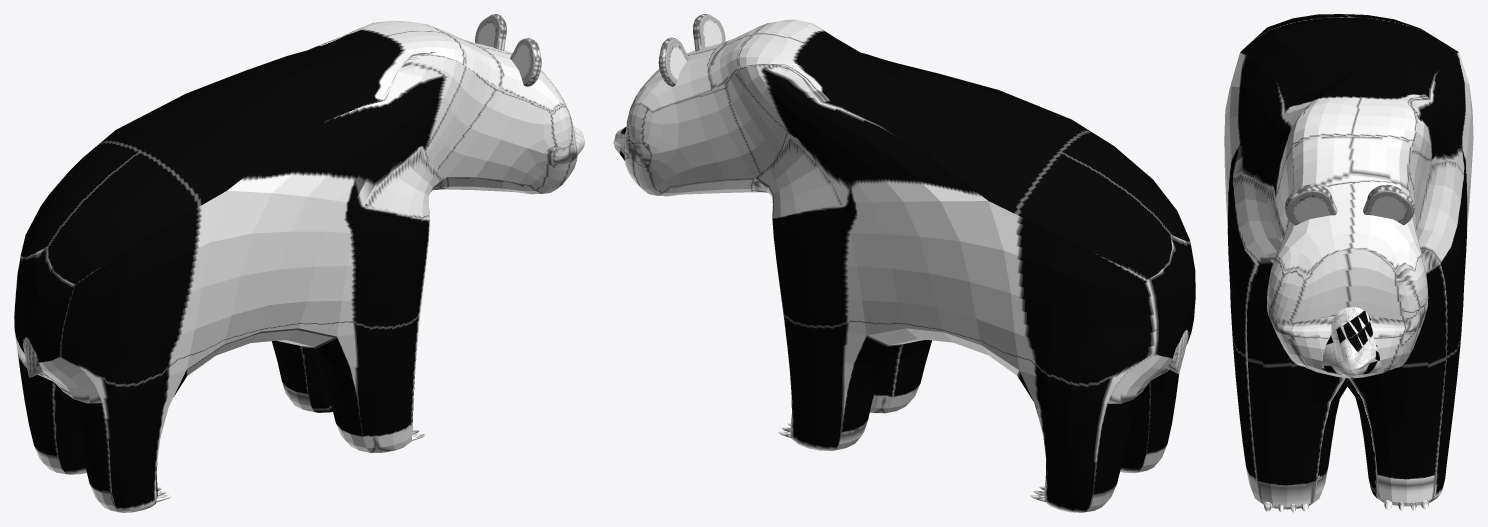
File: MonPanda3D.obj
The picture shows the model from 3 angles, left to right: view 1: azimuth 30°, elevation 25°; view 2: azimuth 150°, elevation 25°; view 3: azimuth 270°, elevation 25°; orthographic projection. The views are drawn at different scales.
Parts seen in each view (by area): view 1: panda_Cube; view 2: panda_Cube; view 3: panda_Cube.
Part boxes in pixels (bbox=[...]): panda_Cube: bbox=[14, 14, 584, 512]; panda_Cube: bbox=[613, 14, 1195, 512]; panda_Cube: bbox=[1224, 14, 1473, 512].
Size of the model in its own units: 6 by 3.83 by 2.03.
